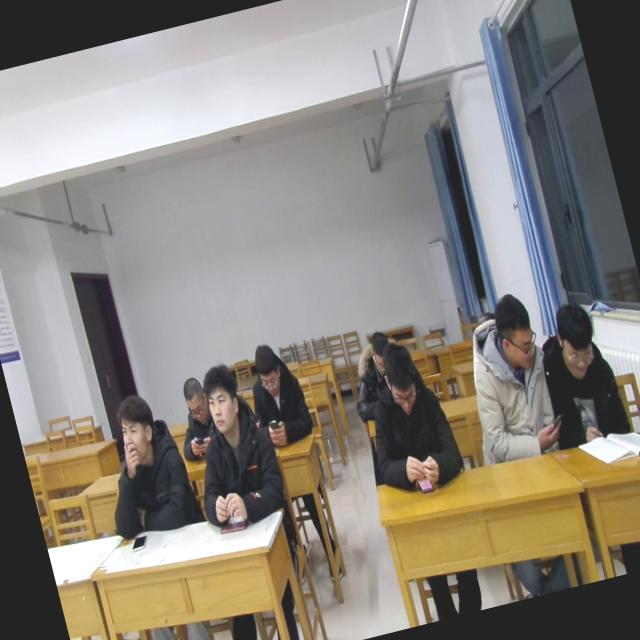bow: (240, 334, 318, 454), (338, 326, 412, 426), (163, 370, 225, 462)
down: (544, 293, 605, 385), (374, 338, 429, 421), (246, 337, 286, 401), (359, 324, 396, 380), (174, 372, 210, 428)
lookup: (104, 386, 163, 471), (194, 354, 250, 438)
sit: (444, 285, 567, 472), (170, 351, 294, 536), (346, 332, 471, 503), (84, 386, 206, 544), (526, 292, 634, 452)
